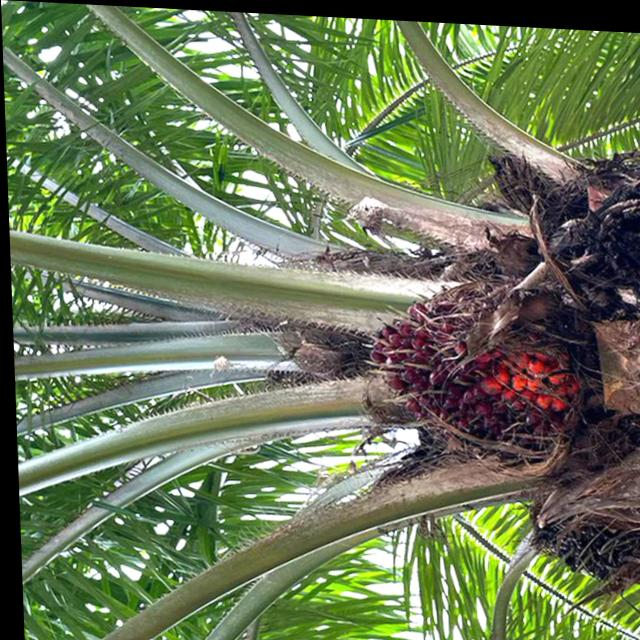ripe: (358, 259, 584, 471), (508, 488, 640, 578)
